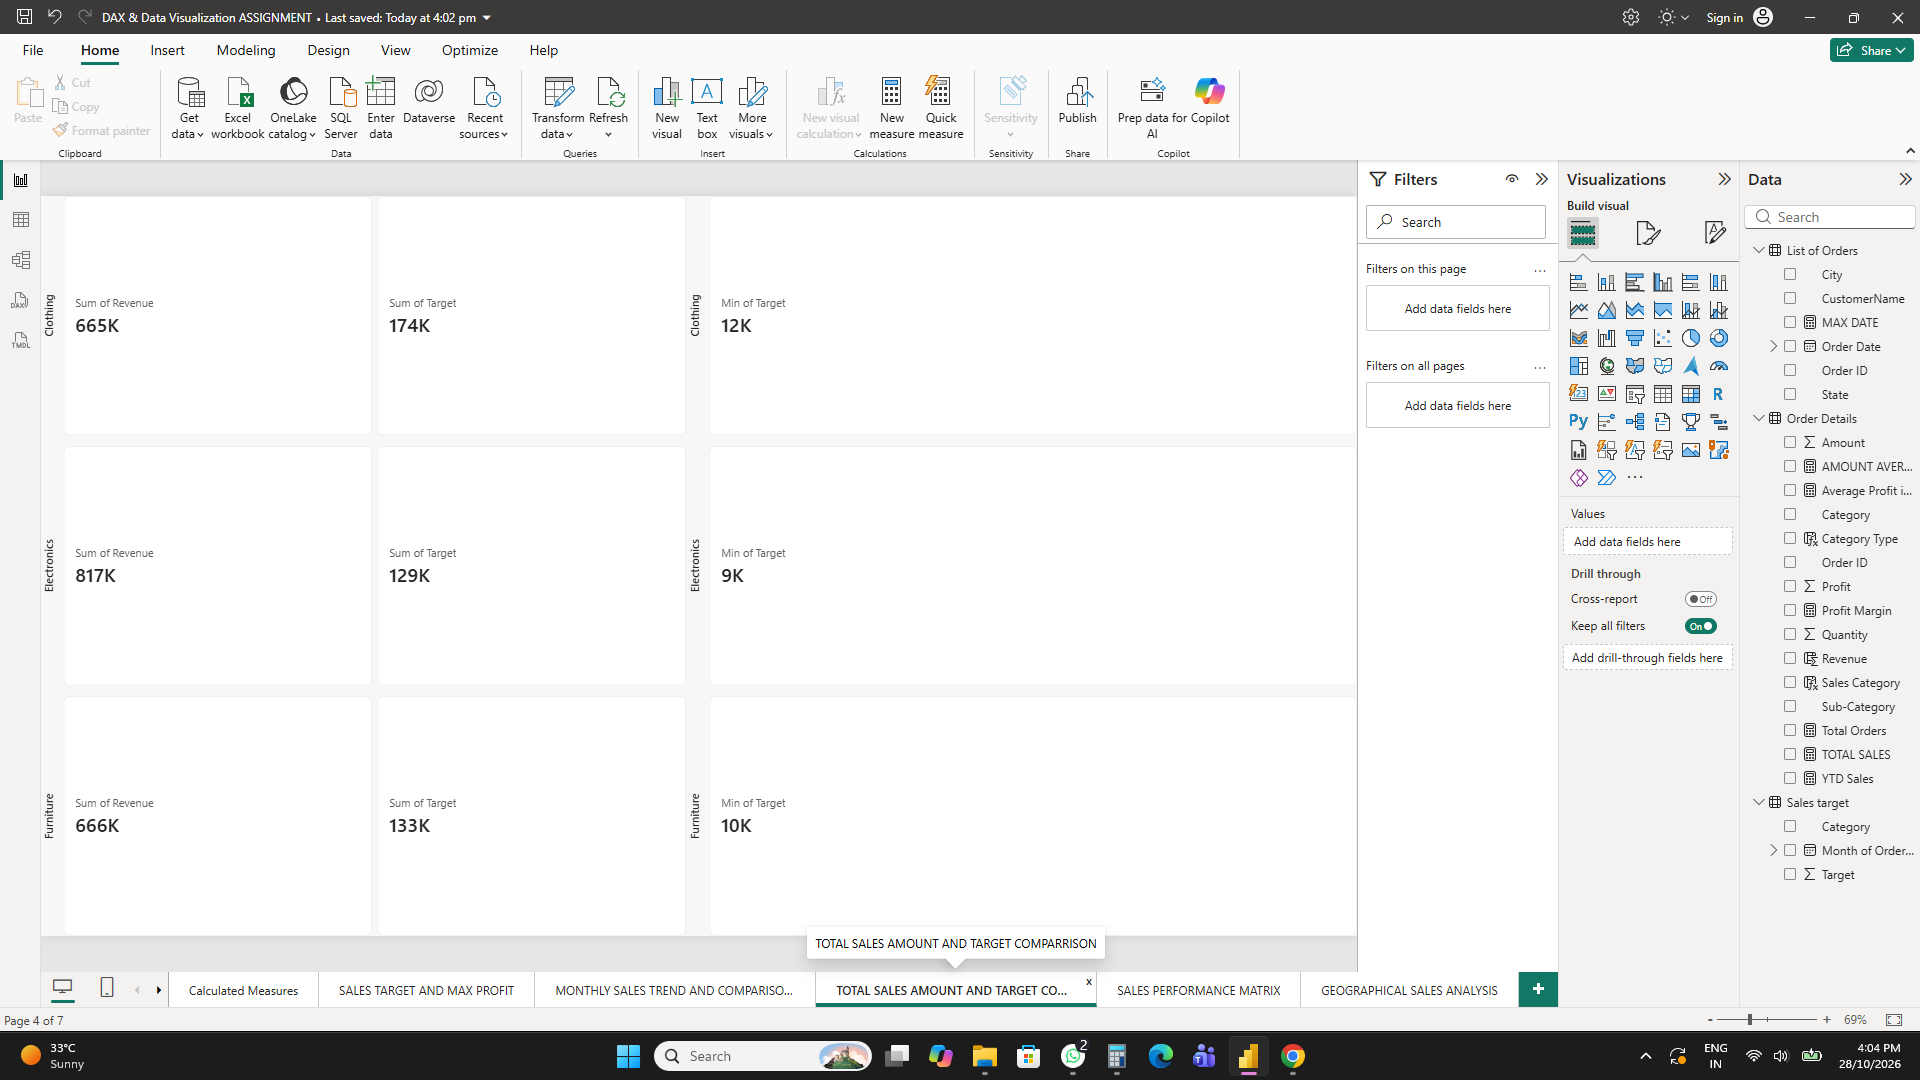

This screenshot's page, from the dashboard's own definition file:
{"tool":"powerbi","page":{"name":"TOTAL SALES AMOUNT AND TARGET COMPARRISON","canvas":[1920,1080],"ordinal":3},"visuals":[{"type":"cardVisual","fields":{"Data":["Min(Sales target .Target)"],"Rows":["Sales target .Category"]},"box":[942.5,0,977.5,1079.6],"z":0},{"type":"cardVisual","fields":{"Data":["Sum(Order Details .Revenue)","Sum(Sales target .Target)"],"Rows":["Order Details .Category"]},"box":[0,0,942.5,1079.6],"z":1000}]}

Visuals, with their boxes on the page's 1920x1080 design canvas (x1, y1, x2, y2). These are canvas units, not pixel positions in the 1920x1080 screenshot, which may show the page scaled, cropped or inside an application window:
cardVisual - Min(Sales target .Target) x Sales target .Category: {"x1": 942, "y1": 0, "x2": 1920, "y2": 1080}
cardVisual - Sum(Order Details .Revenue) x Sum(Sales target .Target): {"x1": 0, "y1": 0, "x2": 942, "y2": 1080}
